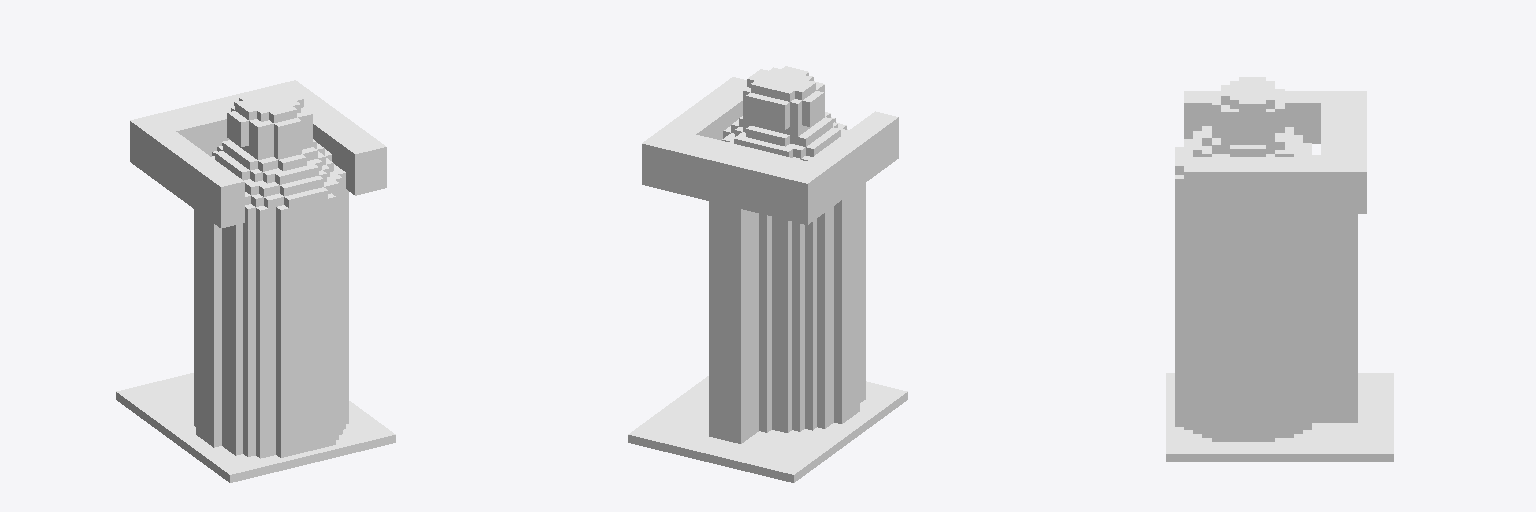
The model's file is HealthUPGREEN.obj.
3 renders of one model, left to right at view 1: azimuth 30°, elevation 25°; view 2: azimuth 150°, elevation 25°; view 3: azimuth 270°, elevation 25°, orthographic.
Size of the model in its own units: 21 by 40 by 25.